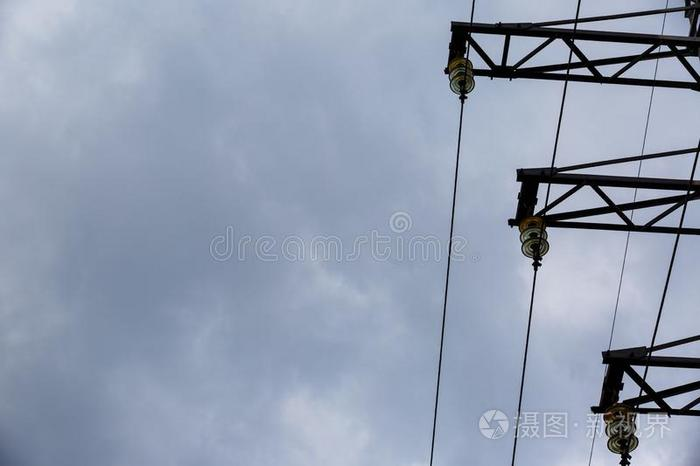insulator: (603, 405, 641, 455), (517, 216, 552, 260), (445, 57, 478, 95)
